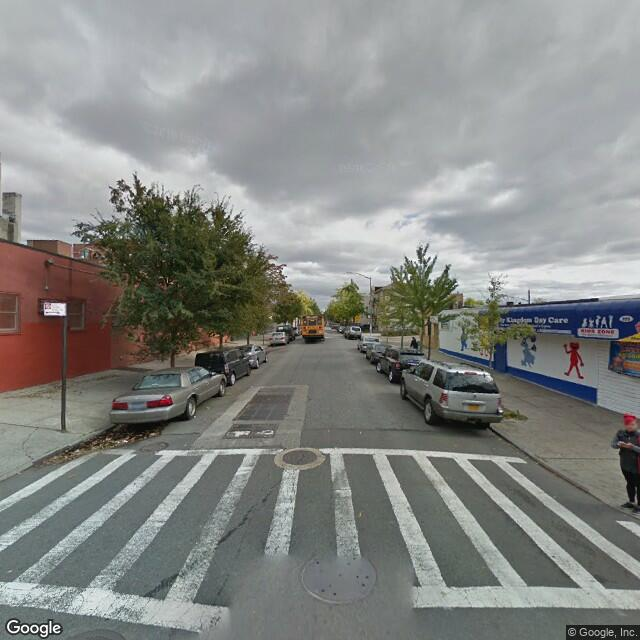litter: (149, 431, 162, 437), (115, 440, 130, 444)
